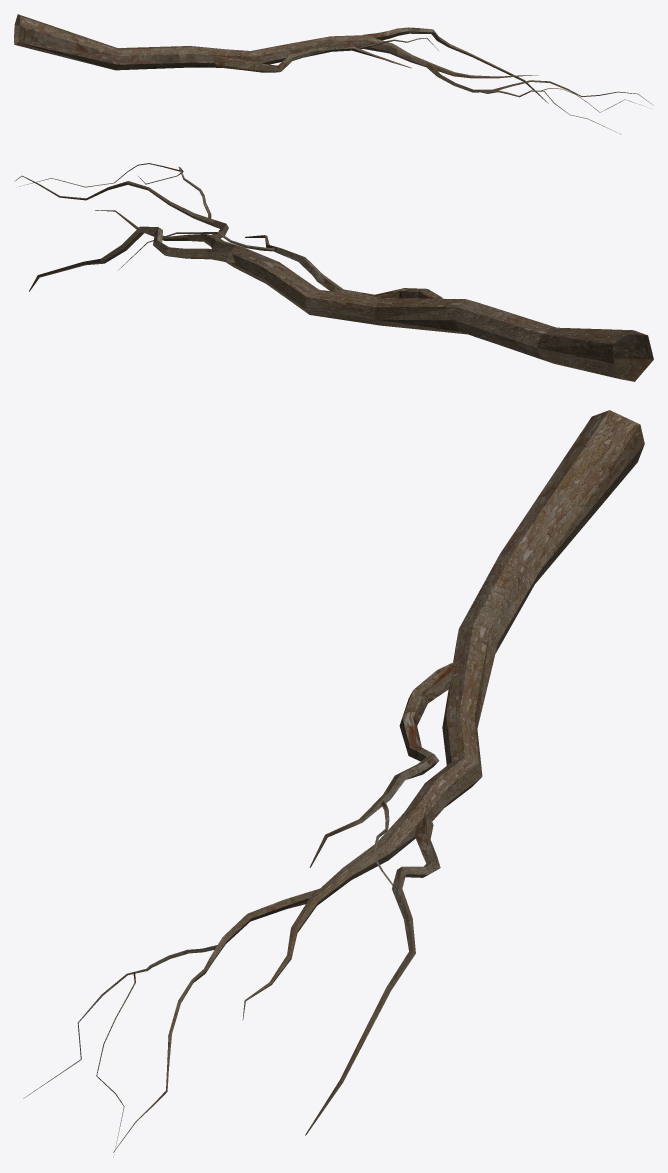
The model's file is House61.fbx.
3 renders of one model, top to bottom at view 1: azimuth 30°, elevation 25°; view 2: azimuth 150°, elevation 25°; view 3: azimuth 270°, elevation 25°, orthographic. The views are drawn at different scales.
Visible parts, largest first — view 1: AT_BGAgo_TrI05.mo; view 2: AT_BGAgo_TrI05.mo; view 3: AT_BGAgo_TrI05.mo.
Boxes of the visible parts, x1,y1,x2,y2 form: AT_BGAgo_TrI05.mo: (14,14,653,134); AT_BGAgo_TrI05.mo: (14,163,653,381); AT_BGAgo_TrI05.mo: (23,410,644,1157).
Bounding box in the file's own units: 1331 × 350 × 693.
